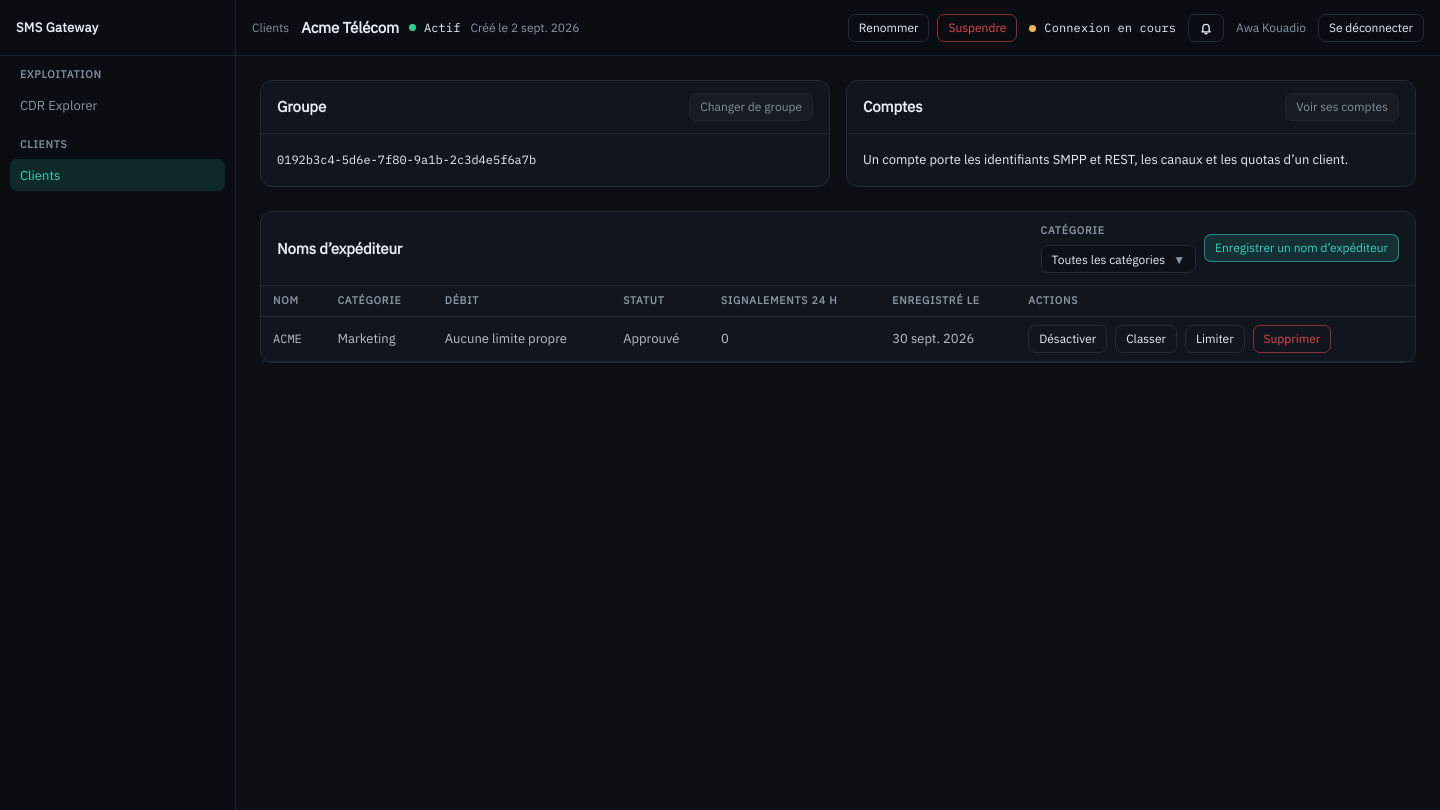
Test: the sender IDs of a customer › sets a limit, says a refused message leaves no CDR, then removes it
Click the button with aria-label "Limiter ACME" at coordinates (1215, 339), box [1185,325,1245,353]
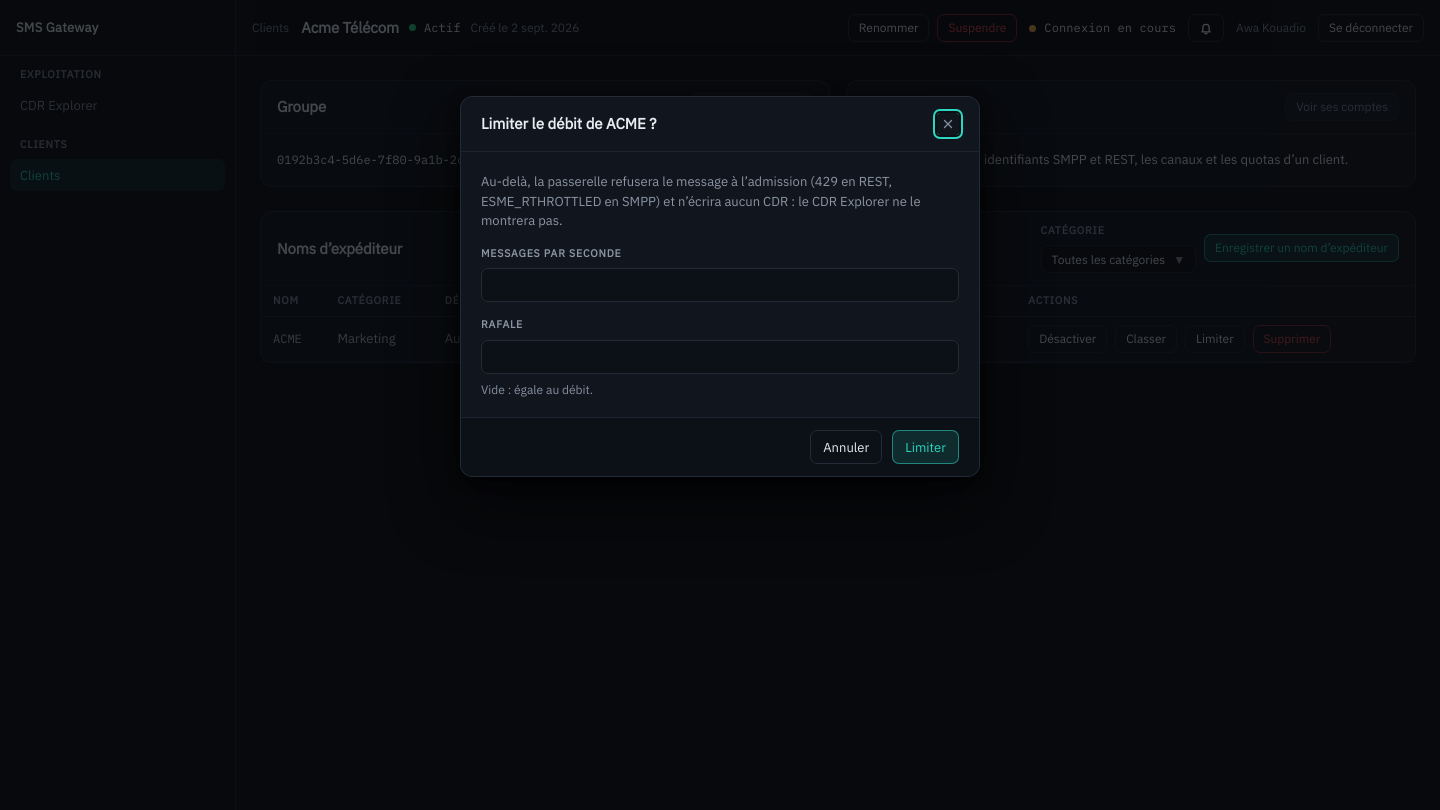
Check: the dialog "Limiter le débit de ACME ?" shows "aucun CDR", box [481,173,920,229]
Type "50" into the field labelled "Messages par seconde" at coordinates (720, 285), box [481,268,959,302]
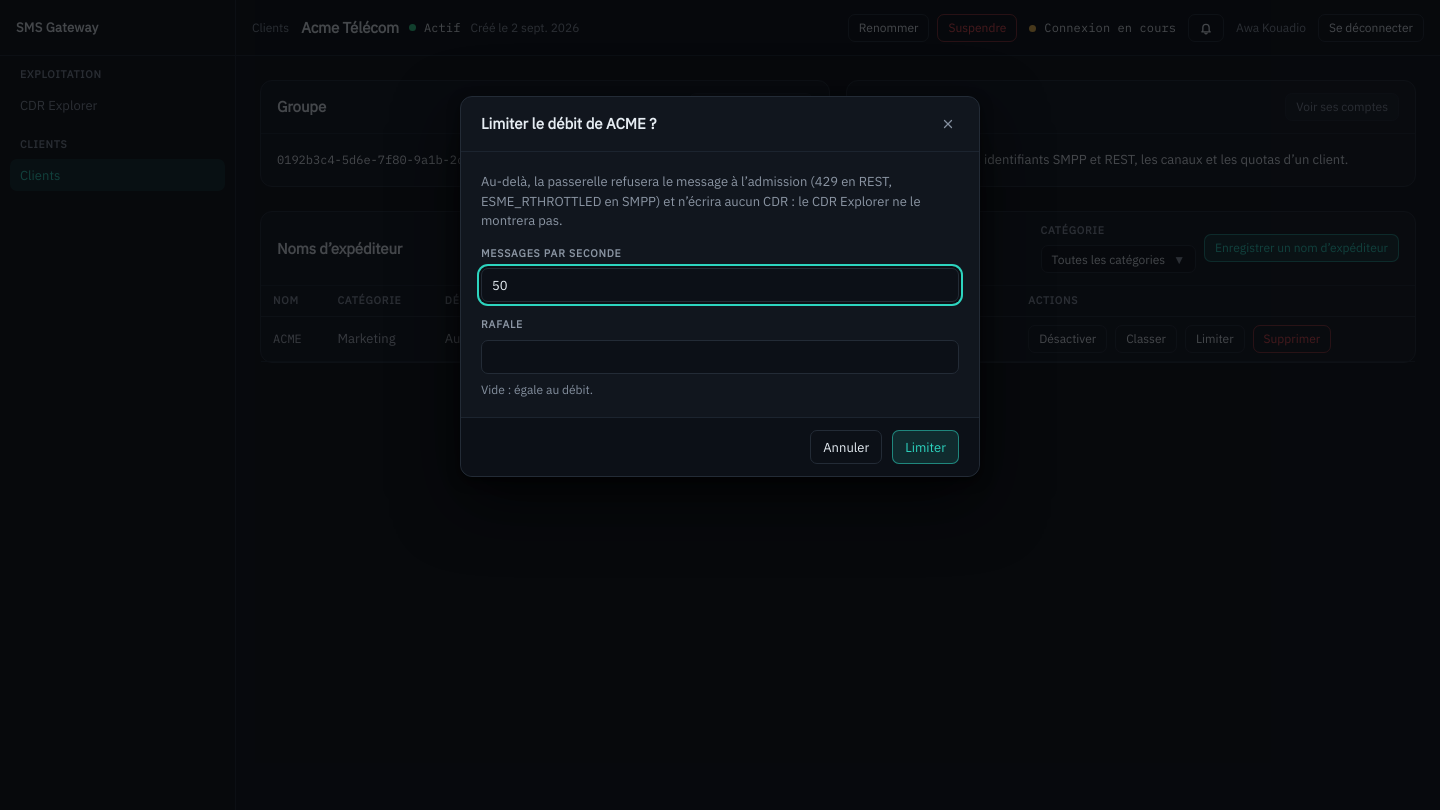
Click the button "Limiter" at coordinates (926, 447), box [892,430,959,464]
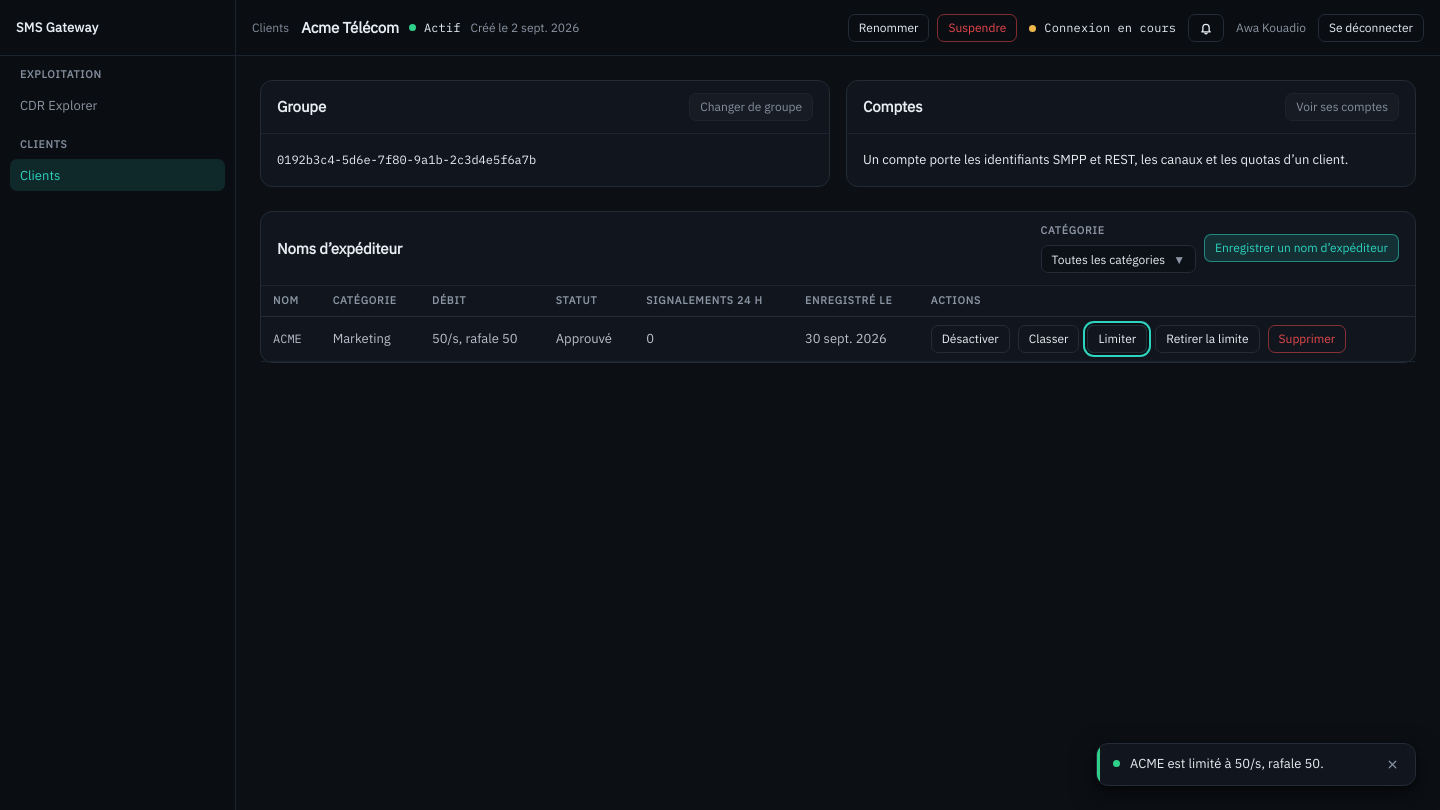
Check: the heading "ACME est limité à 50/s, rafale 50." is shown, box [1130,754,1324,774]
Check: the row "ACME" shows "50/s, rafale 50", box [432,330,518,347]
Click the button with aria-label "Retirer la limite de ACME" at coordinates (1207, 339), box [1155,325,1260,353]
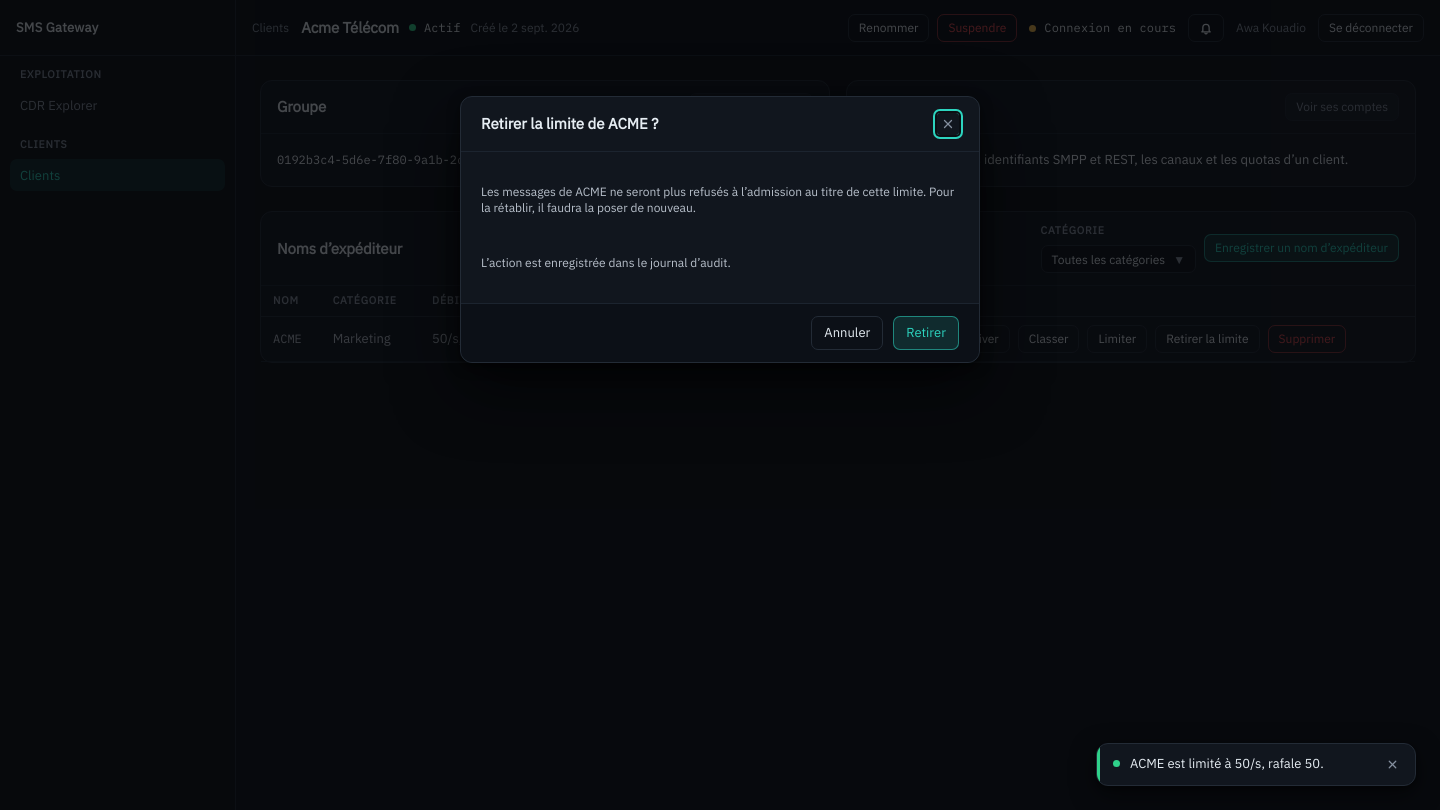
Check: the dialog "Retirer la limite de ACME ?" shows "ne seront plus refusés à l’admission", box [481,184,954,215]
Click the button "Retirer" at coordinates (926, 333), box [893,316,959,350]
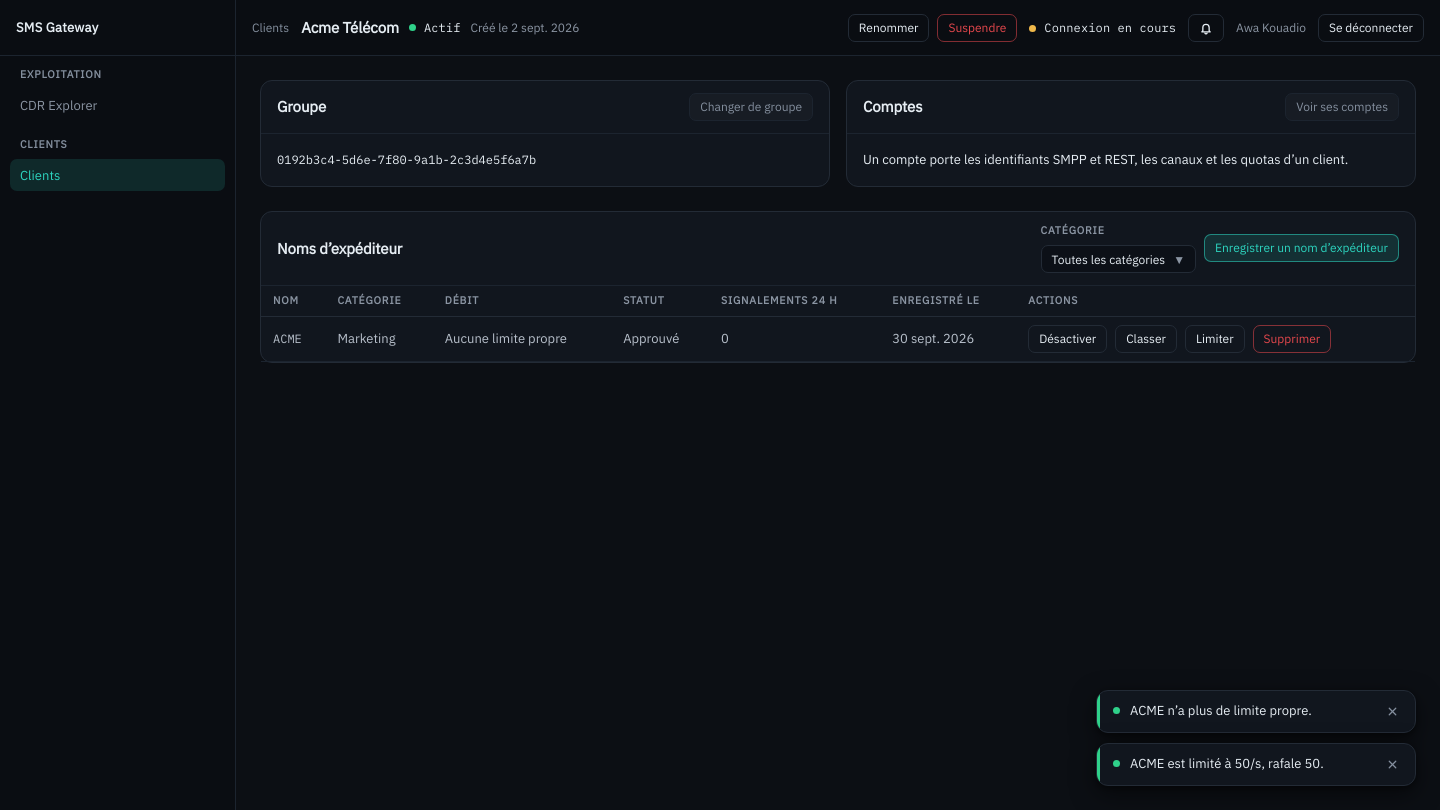
Check: the heading "ACME n’a plus de limite propre." is shown, box [1130,701,1312,720]
Check: the row "ACME" shows "Aucune limite propre", box [445,330,567,347]
